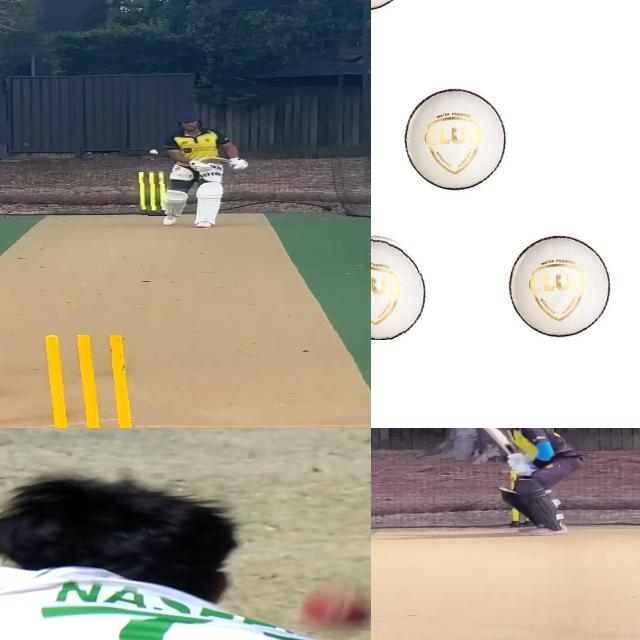Cricket ball: (502, 230, 616, 341), (399, 86, 511, 194), (371, 232, 429, 340), (297, 587, 371, 631), (148, 148, 160, 155)
Stumps: (32, 335, 135, 428), (136, 171, 167, 216)
